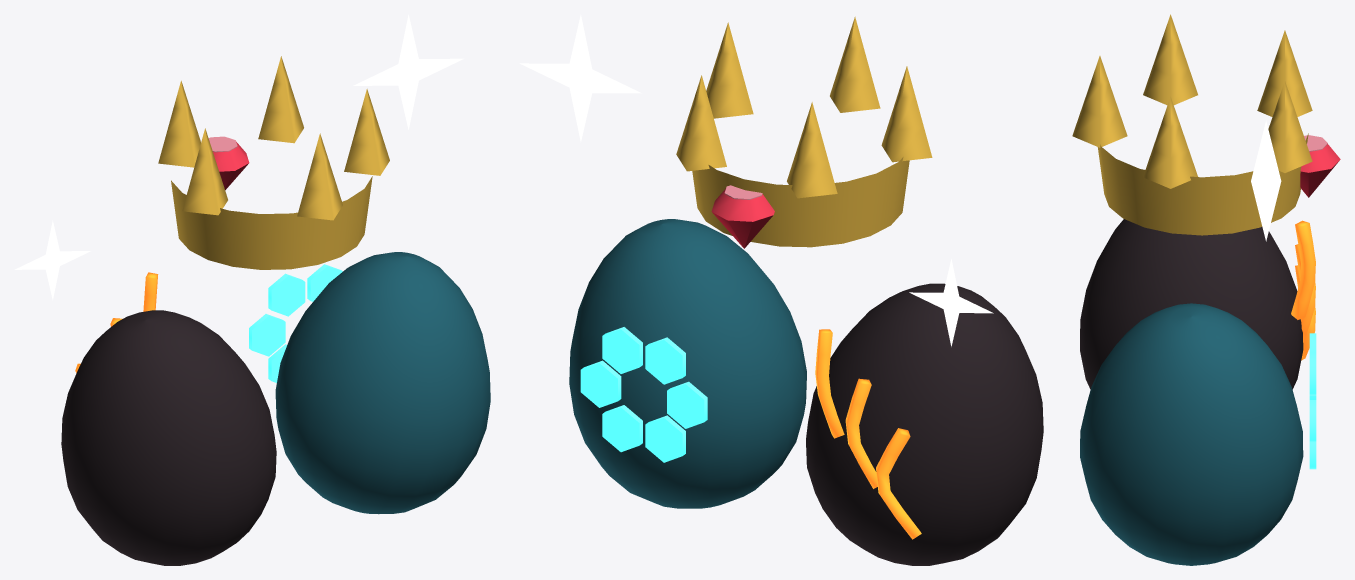
Rendered from OfferBoss.glb.
The picture shows the model from 3 angles, left to right: view 1: azimuth 30°, elevation 25°; view 2: azimuth 150°, elevation 25°; view 3: azimuth 270°, elevation 25°; orthographic projection. The views are drawn at different scales.
Visible parts, largest first — view 1: Body, Glow, Tide; view 2: Body, Tide, Lava, Glow; view 3: Body, Lava, Glow, Tide.
Part boxes in pixels (x1,y1,x2,y2): Body: (61,56,490,565); Glow: (14,14,463,300); Tide: (249,264,342,382); Body: (569,16,1043,565); Tide: (580,327,707,462); Lava: (815,329,921,539); Glow: (519,14,993,346); Body: (1072,14,1340,565); Lava: (1291,220,1315,360); Glow: (1251,120,1281,241); Tide: (1309,333,1316,469).
Bounding box in the file's own units: 2.48 × 2.42 × 1.26.
4 materials, 1 textured.
